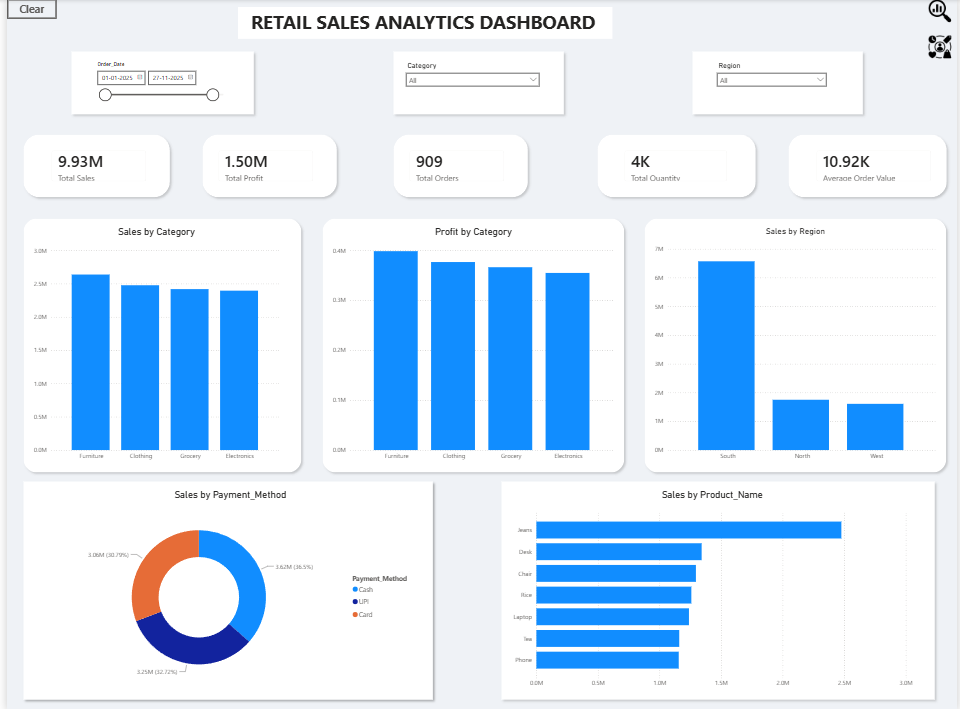

The dashboard page shown, as its layout file describes it:
{"tool":"powerbi","page":{"name":"Overview","canvas":[1910,1430],"ordinal":0},"visuals":[{"type":"shape","box":[984,960,888,456],"z":0},{"type":"shape","box":[24,960,840,456],"z":1000},{"type":"shape","box":[1272,432,624,528],"z":2000},{"type":"shape","box":[624,432,624,528],"z":3000},{"type":"shape","box":[24,432,576,528],"z":4000},{"type":"shape","box":[1560,264,336,144],"z":5000},{"type":"shape","box":[1176,264,336,144],"z":6000},{"type":"shape","box":[768,264,288,144],"z":7000},{"type":"shape","box":[384,264,288,144],"z":8000},{"type":"shape","box":[24,264,312,144],"z":9000},{"type":"shape","box":[1368,96,360,144],"z":10000},{"type":"shape","box":[768,96,360,144],"z":11000},{"type":"shape","box":[120,96,384,144],"z":12000},{"type":"cardVisual","fields":{"Data":["retail_sales_cleaned.Total Sales"]},"box":[72,288,224,96],"z":13000},{"type":"cardVisual","fields":{"Data":["retail_sales_cleaned.Total Profit"]},"box":[408,288,224,96],"z":14000},{"type":"cardVisual","fields":{"Data":["retail_sales_cleaned.Total Orders"]},"box":[792,288,224,96],"z":15000},{"type":"cardVisual","fields":{"Data":["retail_sales_cleaned.Total Quantity"]},"box":[1224,288,240,96],"z":16000},{"type":"cardVisual","fields":{"Data":["retail_sales_cleaned.Average Order Value"]},"box":[1608,288,264,96],"z":17000},{"type":"clusteredColumnChart","title":"Sales by Category","fields":{"Category":["retail_sales_cleaned.Category"],"Y":["retail_sales_cleaned.Total Sales"]},"box":[48,456,504,480],"z":18000},{"type":"clusteredColumnChart","title":" Profit by Category","fields":{"Category":["retail_sales_cleaned.Category"],"Y":["retail_sales_cleaned.Total Profit"]},"box":[648,456,576,480],"z":19000},{"type":"clusteredColumnChart","title":"Sales by Region","fields":{"Category":["retail_sales_cleaned.Region"],"Y":["retail_sales_cleaned.Total Sales"]},"box":[1296,456,576,480],"z":20000},{"type":"donutChart","title":"Sales by Payment_Method","fields":{"Category":["retail_sales_cleaned.Payment_Method"],"Y":["retail_sales_cleaned.Total Sales"]},"box":[72,984,752,400],"z":21000},{"type":"clusteredBarChart","title":"Sales by Product_Name","fields":{"Category":["retail_sales_cleaned.Product_Name"],"Y":["retail_sales_cleaned.Total Sales"]},"box":[1008,984,816,408],"z":22000},{"type":"slicer","fields":{"Values":["retail_sales_cleaned.Category"]},"box":[792,120,288,96],"z":23000},{"type":"slicer","fields":{"Values":["retail_sales_cleaned.Region"]},"box":[1416,120,240,96],"z":24000},{"type":"slicer","fields":{"Values":["retail_sales_cleaned.Order_Date"]},"box":[168,120,288,96],"z":25000},{"type":"textbox","box":[464,16,752,64],"z":26000},{"type":"image","box":[1838,0,72,48],"z":27000},{"type":"image","box":[1838,72,72,48],"z":28001},{"type":"actionButton","box":[0,0,100,40],"z":28002}]}

Visuals, with their boxes in screenshot pixels (x1, y1, x2, y2), scaled from the page's 1910x1430 canvas onto the 960x709 screenshot:
shape: region(495, 476, 941, 702)
shape: region(12, 476, 434, 702)
shape: region(639, 214, 953, 476)
shape: region(314, 214, 627, 476)
shape: region(12, 214, 302, 476)
shape: region(784, 131, 953, 202)
shape: region(591, 131, 760, 202)
shape: region(386, 131, 531, 202)
shape: region(193, 131, 338, 202)
shape: region(12, 131, 169, 202)
shape: region(688, 48, 869, 119)
shape: region(386, 48, 567, 119)
shape: region(60, 48, 253, 119)
cardVisual - retail_sales_cleaned.Total Sales: region(36, 143, 149, 190)
cardVisual - retail_sales_cleaned.Total Profit: region(205, 143, 318, 190)
cardVisual - retail_sales_cleaned.Total Orders: region(398, 143, 511, 190)
cardVisual - retail_sales_cleaned.Total Quantity: region(615, 143, 736, 190)
cardVisual - retail_sales_cleaned.Average Order Value: region(808, 143, 941, 190)
"Sales by Category" clusteredColumnChart: region(24, 226, 277, 464)
" Profit by Category" clusteredColumnChart: region(326, 226, 615, 464)
"Sales by Region" clusteredColumnChart: region(651, 226, 941, 464)
"Sales by Payment_Method" donutChart: region(36, 488, 414, 686)
"Sales by Product_Name" clusteredBarChart: region(507, 488, 917, 690)
slicer - retail_sales_cleaned.Category: region(398, 59, 543, 107)
slicer - retail_sales_cleaned.Region: region(712, 59, 832, 107)
slicer - retail_sales_cleaned.Order_Date: region(84, 59, 229, 107)
textbox: region(233, 8, 611, 40)
image: region(924, 0, 959, 24)
image: region(924, 36, 959, 59)
actionButton: region(0, 0, 50, 20)
